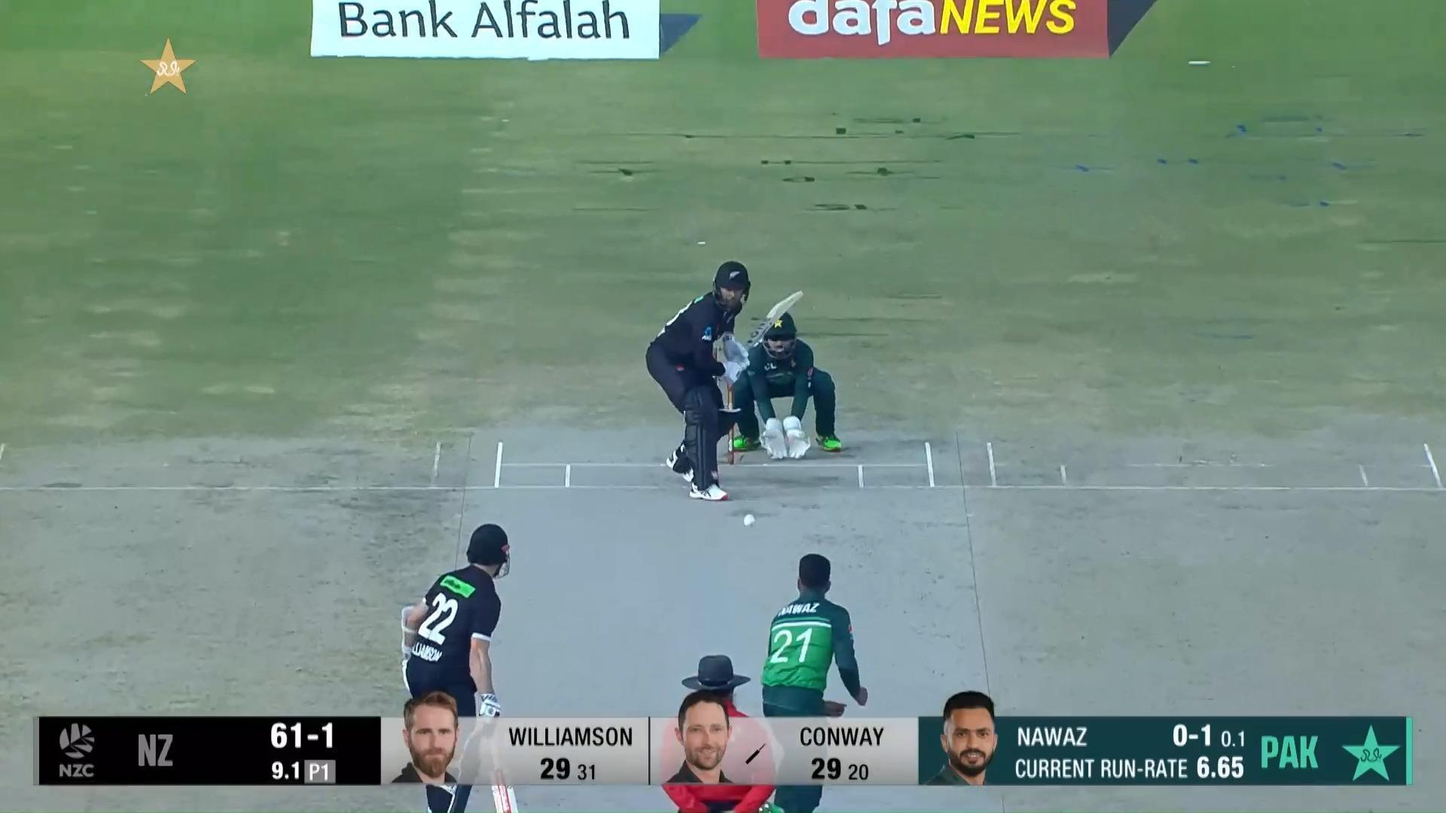BM 1: (645, 259, 805, 503)
BO: (762, 554, 870, 813)
